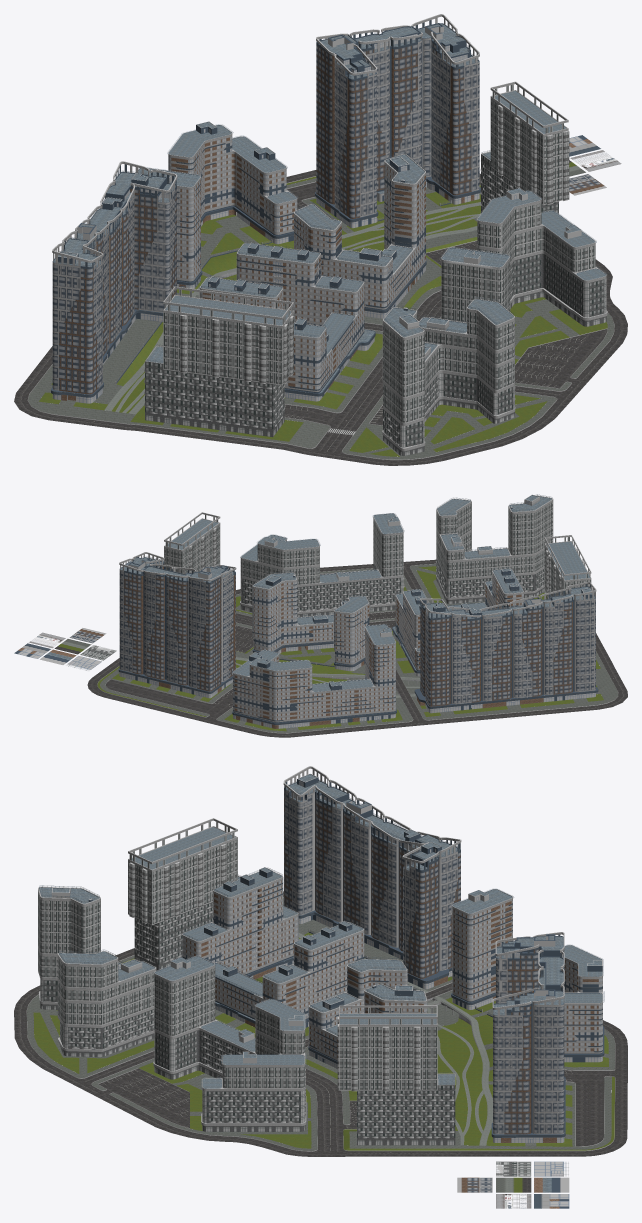
The model's file is modern_city_block.compressed.glb.
3 renders of one model, top to bottom at view 1: azimuth 30°, elevation 25°; view 2: azimuth 150°, elevation 25°; view 3: azimuth 270°, elevation 25°, orthographic. The views are drawn at different scales.
Parts seen in each view (by area): view 1: terrain_5_0, Cube.192_7_0, Cube.009_4_0, Cube.002_7_0, roads_5_0, Plane.057_4_0, Plane.056_4_0, Plane.001_3_0, Plane.048_3_0, Cube_4_0, Plane.036_3_0, Plane.048_2_0 (+20 smaller); view 2: Cube.002_7_0, Cube.192_7_0, terrain_5_0, Plane.048_3_0, roads_5_0, Plane.056_4_0, Plane.057_4_0, Plane.036_3_0, Plane.048_2_0, Cube.002_2_0, Cube.192_2_0, Cube.002_3_0 (+20 smaller); view 3: terrain_5_0, Cube.002_7_0, roads_5_0, Plane.056_4_0, Cube_4_0, Plane.001_3_0, Plane.057_4_0, Cube.192_7_0, Cube.009_4_0, Plane.048_3_0, Plane.001_2_0, Cube.002_2_0 (+20 smaller).
Part boxes in pixels (bbox=[...]): terrain_5_0: bbox=[28, 176, 614, 459]; Cube.192_7_0: bbox=[316, 40, 479, 218]; Cube.009_4_0: bbox=[144, 289, 293, 437]; Cube.002_7_0: bbox=[52, 188, 176, 394]; roads_5_0: bbox=[14, 170, 627, 465]; Plane.057_4_0: bbox=[382, 311, 515, 455]; Plane.056_4_0: bbox=[441, 202, 606, 326]; Plane.001_3_0: bbox=[199, 248, 375, 396]; Plane.048_3_0: bbox=[168, 134, 297, 285]; Cube_4_0: bbox=[480, 84, 569, 213]; Plane.036_3_0: bbox=[294, 162, 426, 313]; Plane.048_2_0: bbox=[138, 121, 297, 287]; Cube.002_7_0: bbox=[420, 600, 595, 706]; Cube.192_7_0: bbox=[119, 564, 235, 691]; terrain_5_0: bbox=[97, 564, 618, 732]; Plane.048_3_0: bbox=[232, 628, 396, 725]; roads_5_0: bbox=[87, 559, 627, 737]; Plane.056_4_0: bbox=[240, 519, 404, 617]; Plane.057_4_0: bbox=[436, 501, 553, 603]; Plane.036_3_0: bbox=[252, 579, 369, 667]; Plane.048_2_0: bbox=[232, 624, 396, 728]; Cube.002_2_0: bbox=[414, 582, 598, 710]; Cube.192_2_0: bbox=[118, 552, 235, 694]; Cube.002_3_0: bbox=[414, 582, 598, 708]; terrain_5_0: bbox=[27, 897, 614, 1151]; Cube.002_7_0: bbox=[284, 790, 460, 978]; roads_5_0: bbox=[14, 891, 627, 1156]; Plane.056_4_0: bbox=[154, 967, 305, 1131]; Cube_4_0: bbox=[337, 1007, 455, 1145]; Plane.001_3_0: bbox=[182, 873, 364, 1023]; Plane.057_4_0: bbox=[38, 892, 155, 1057]; Cube.192_7_0: bbox=[493, 948, 564, 1134]; Cube.009_4_0: bbox=[128, 821, 237, 970]; Plane.048_3_0: bbox=[451, 898, 604, 1057]; Plane.001_2_0: bbox=[182, 867, 364, 1027]; Cube.002_2_0: bbox=[283, 766, 460, 988].
Bounding box in the file's own units: 49369 × 11751 × 40058.
7 materials, 7 textured.
